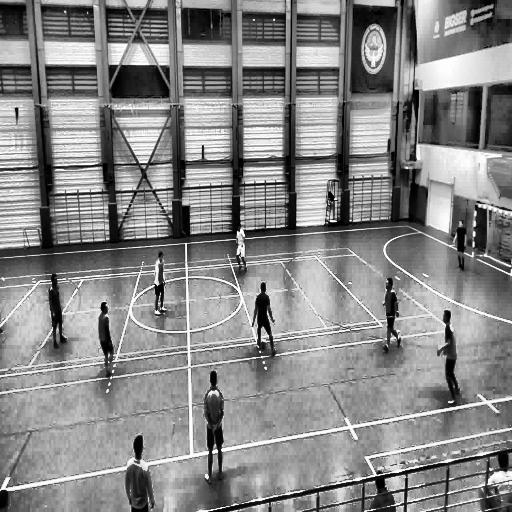ball: (260, 337, 266, 349)
player: (202, 369, 230, 485), (126, 433, 154, 512), (436, 309, 458, 406), (251, 281, 275, 355), (380, 279, 400, 354), (49, 273, 67, 349), (98, 300, 115, 378), (453, 220, 467, 270), (155, 251, 166, 314), (236, 222, 247, 272)
